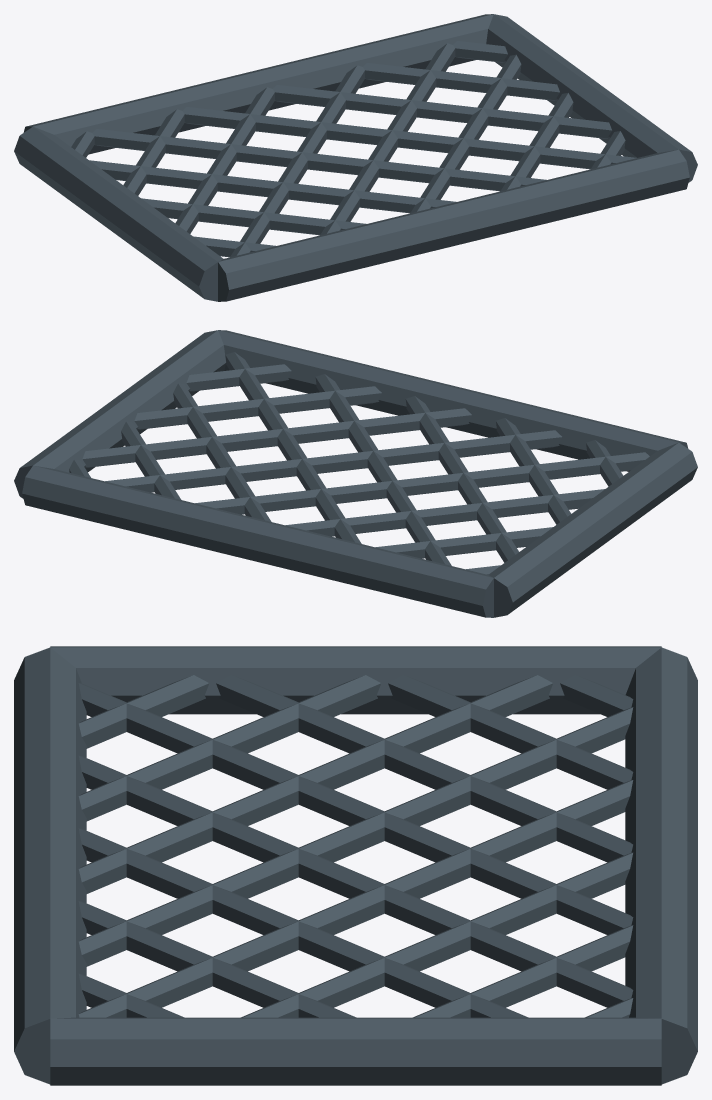
Rendered from FTF_Product_MetalDefenseNetPiece_Drop.glb.
3 renders of one model, top to bottom at view 1: azimuth 30°, elevation 25°; view 2: azimuth 150°, elevation 25°; view 3: azimuth 270°, elevation 25°, orthographic. The views are drawn at different scales.
Parts seen in each view (by area): view 1: MetalDefenseNetPiece_Mesh; view 2: MetalDefenseNetPiece_Mesh; view 3: MetalDefenseNetPiece_Mesh.
Part boxes in pixels (<box>): MetalDefenseNetPiece_Mesh: <box>14,14,697,301</box>; MetalDefenseNetPiece_Mesh: <box>14,330,697,617</box>; MetalDefenseNetPiece_Mesh: <box>14,646,697,1085</box>.
Bounding box in the file's own units: 0.498 × 0.038 × 0.358.
